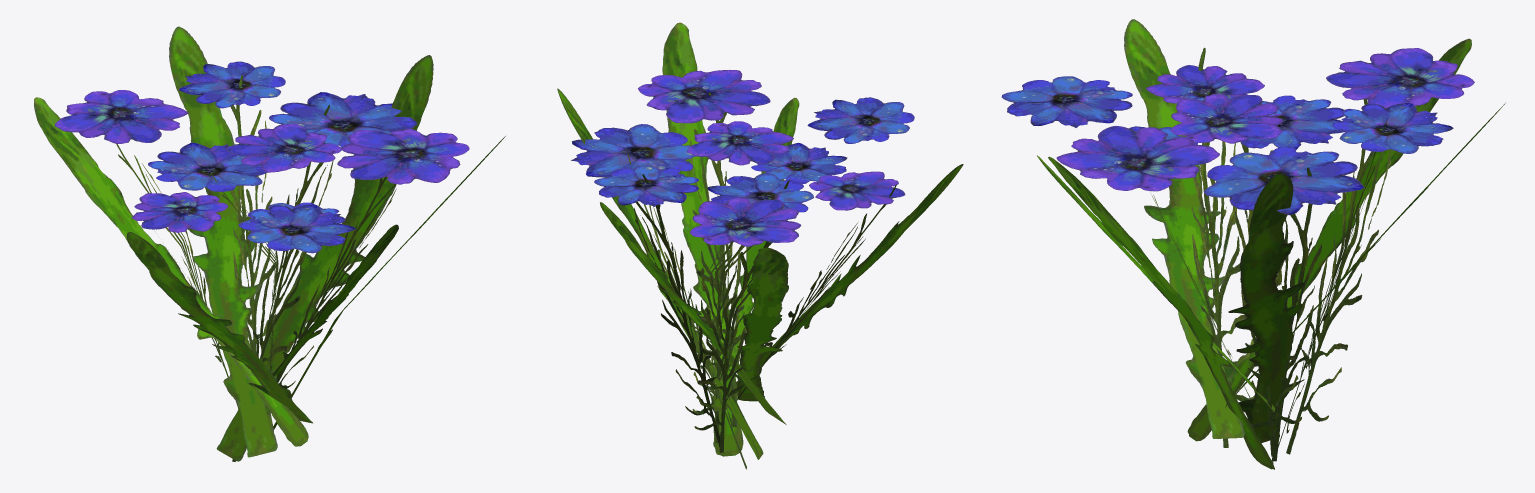
Rendered from Plant_3002_zhiwu01_hua13.FBX.
3 renders of one model, left to right at view 1: azimuth 30°, elevation 25°; view 2: azimuth 150°, elevation 25°; view 3: azimuth 270°, elevation 25°, orthographic. The views are drawn at different scales.
Parts seen in each view (by area): view 1: Plant_3002_zhiwu01_hua13; view 2: Plant_3002_zhiwu01_hua13; view 3: Plant_3002_zhiwu01_hua13.
Part boxes in pixels (box(x1,y1,x2,y2)): Plant_3002_zhiwu01_hua13: box(34, 26, 505, 461); Plant_3002_zhiwu01_hua13: box(557, 22, 963, 469); Plant_3002_zhiwu01_hua13: box(1001, 19, 1505, 469).
Bounding box in the file's own units: 59.9 × 53.89 × 62.24.
